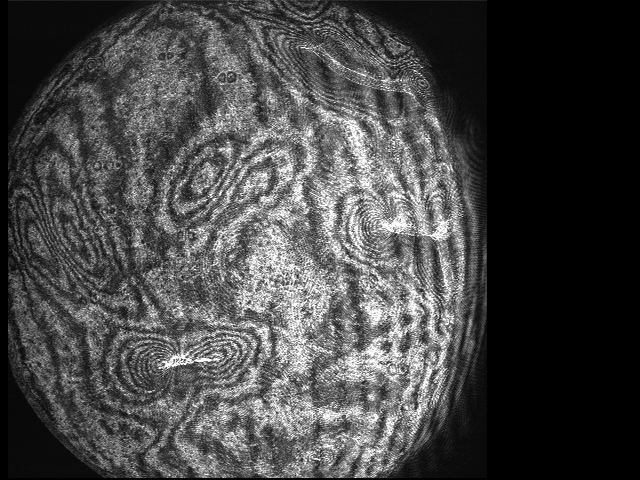plume: (107, 320, 273, 400)
